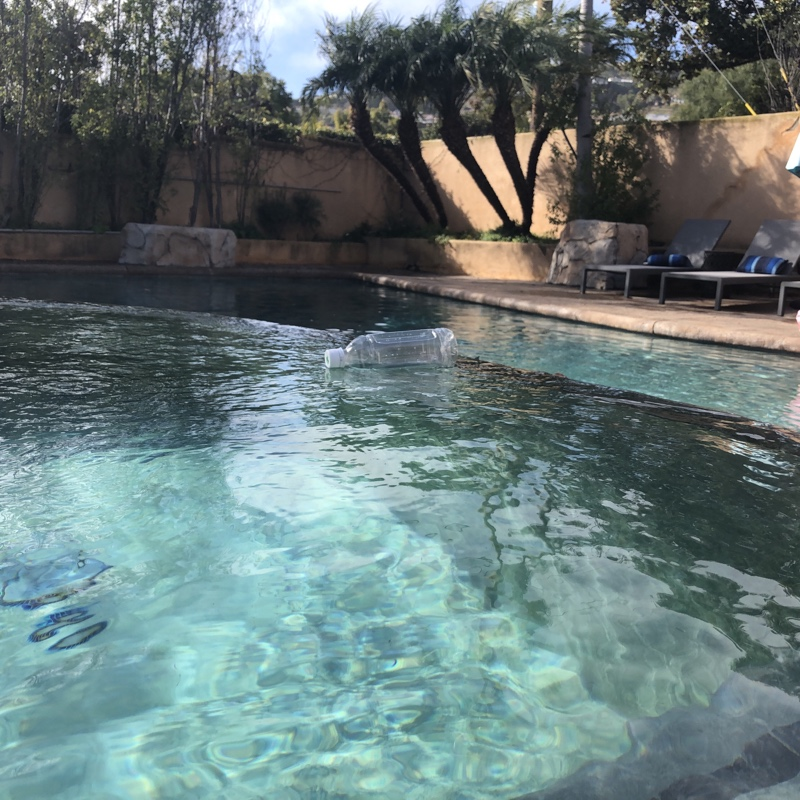Plastic Bottle: (321, 324, 464, 378)
